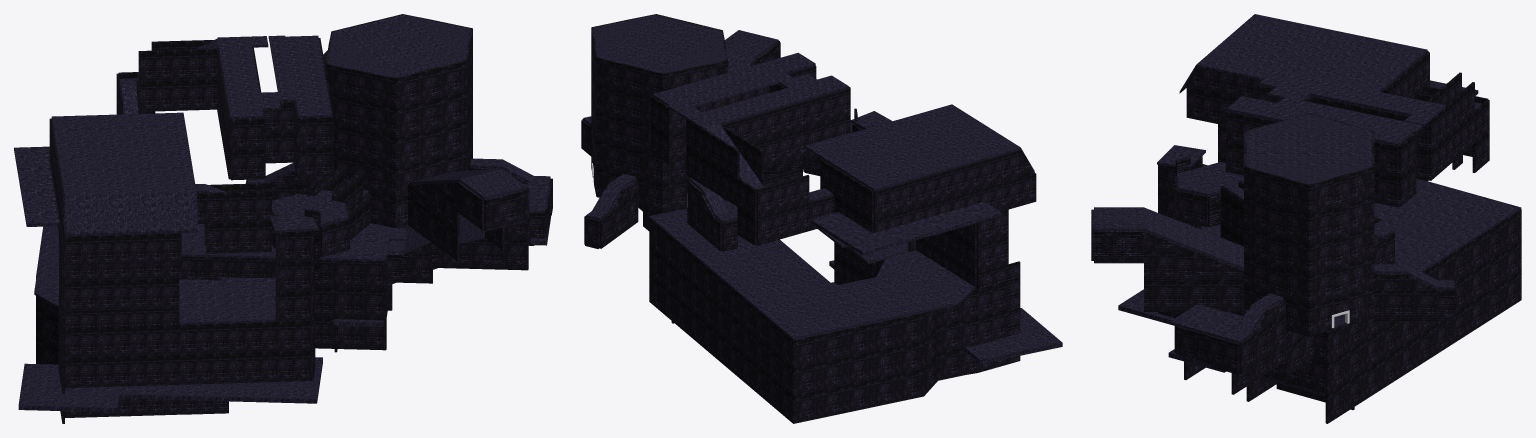
The model's file is nivel1.fbx.
3 renders of one model, left to right at view 1: azimuth 30°, elevation 25°; view 2: azimuth 150°, elevation 25°; view 3: azimuth 270°, elevation 25°, orthographic. The views are drawn at different scales.
Visible parts, largest first — view 1: Wall 20x20.033, Floor 10X10.317, Floor 10X10.318, Floor 10X10.319, Floor 10X10.320, Floor 10X10.270, Floor 10X10.271, Floor 30x30.005, Floor 10X10.281, Floor 10X10.267, Floor 10X10.280, Floor 10X10.278 (+133 smaller); view 2: Floor 10X10.290, Floor 10X10.080, Floor 10X10.271, Floor 10X10.081, Floor 10X10.146, Floor 10X10.273, Floor 10X10.078, Floor 10X10.074, Floor 10X10.076, Floor 10X10.269, Floor 10X10.077, Floor 10X10.079 (+66 smaller); view 3: Wall 20x20.032, Wall Diagonal Large Double.010, Wall Diagonal Large Double.004, Wall Diagonal Large Double.006, Wall Diagonal Large Double.008, Wall Diagonal Large Double.002, Floor 30x30.004, Floor 30x30.002, Floor 30x30.005, Floor 10X10.078, Floor 10X10.076, Floor 10X10.080 (+109 smaller).
Boxes of the visible parts, bbox=[...] form: Wall 20x20.033: bbox=[484, 189, 528, 230]; Floor 10X10.317: bbox=[65, 195, 99, 236]; Floor 10X10.318: bbox=[98, 194, 131, 235]; Floor 10X10.319: bbox=[131, 193, 164, 234]; Floor 10X10.320: bbox=[163, 193, 197, 233]; Floor 10X10.270: bbox=[68, 387, 120, 412]; Floor 10X10.271: bbox=[18, 384, 70, 411]; Floor 30x30.005: bbox=[459, 169, 526, 199]; Floor 10X10.281: bbox=[222, 277, 275, 300]; Floor 10X10.267: bbox=[267, 378, 319, 403]; Floor 10X10.280: bbox=[225, 299, 275, 323]; Floor 10X10.278: bbox=[179, 301, 228, 324]; Floor 10X10.290: bbox=[836, 228, 902, 255]; Floor 10X10.080: bbox=[772, 312, 834, 339]; Floor 10X10.271: bbox=[1005, 325, 1062, 355]; Floor 10X10.081: bbox=[814, 303, 875, 331]; Floor 10X10.146: bbox=[855, 294, 916, 322]; Floor 10X10.273: bbox=[896, 286, 957, 313]; Floor 10X10.078: bbox=[752, 294, 813, 322]; Floor 10X10.074: bbox=[711, 260, 772, 287]; Floor 10X10.076: bbox=[731, 277, 792, 304]; Floor 10X10.269: bbox=[965, 337, 1021, 364]; Floor 10X10.077: bbox=[773, 268, 833, 294]; Floor 10X10.079: bbox=[793, 286, 854, 311]; Wall 20x20.032: bbox=[1094, 230, 1143, 261]; Wall Diagonal Large Double.010: bbox=[1284, 178, 1333, 215]; Wall Diagonal Large Double.004: bbox=[1284, 269, 1333, 306]; Wall Diagonal Large Double.006: bbox=[1284, 239, 1333, 275]; Wall Diagonal Large Double.008: bbox=[1284, 209, 1333, 245]; Wall Diagonal Large Double.002: bbox=[1285, 299, 1333, 336]; Floor 30x30.004: bbox=[1144, 207, 1193, 250]; Floor 30x30.002: bbox=[1194, 227, 1243, 269]; Floor 30x30.005: bbox=[1094, 207, 1143, 230]; Floor 10X10.078: bbox=[1424, 213, 1493, 244]; Floor 10X10.076: bbox=[1397, 231, 1465, 262]; Floor 10X10.080: bbox=[1452, 196, 1521, 226].
Bounding box in the file's own units: 36747 × 18400 × 25777.
Materials: 2 (2 with a texture image).
